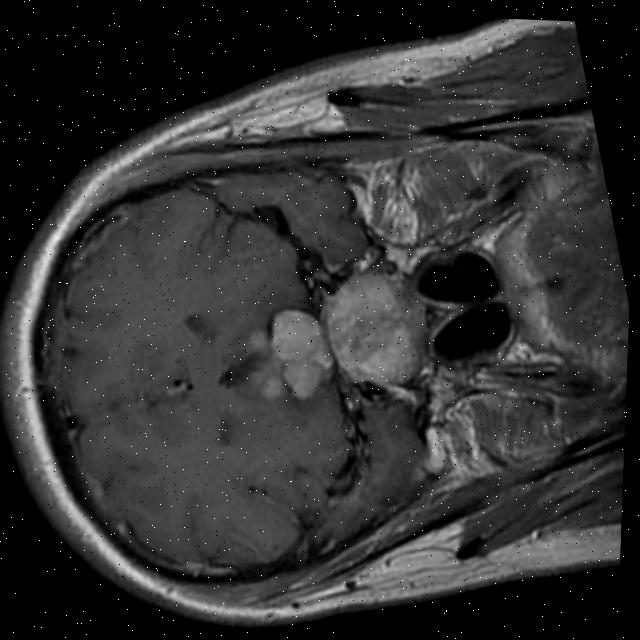Pituitary: (315, 264, 429, 396), (260, 299, 343, 405)
